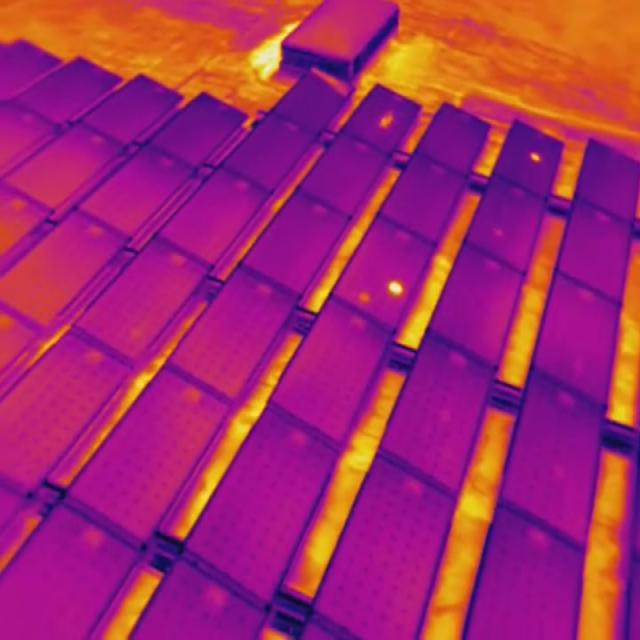Orange-Spots: (380, 111, 394, 130), (389, 280, 404, 296), (358, 288, 370, 306), (530, 151, 542, 164)
